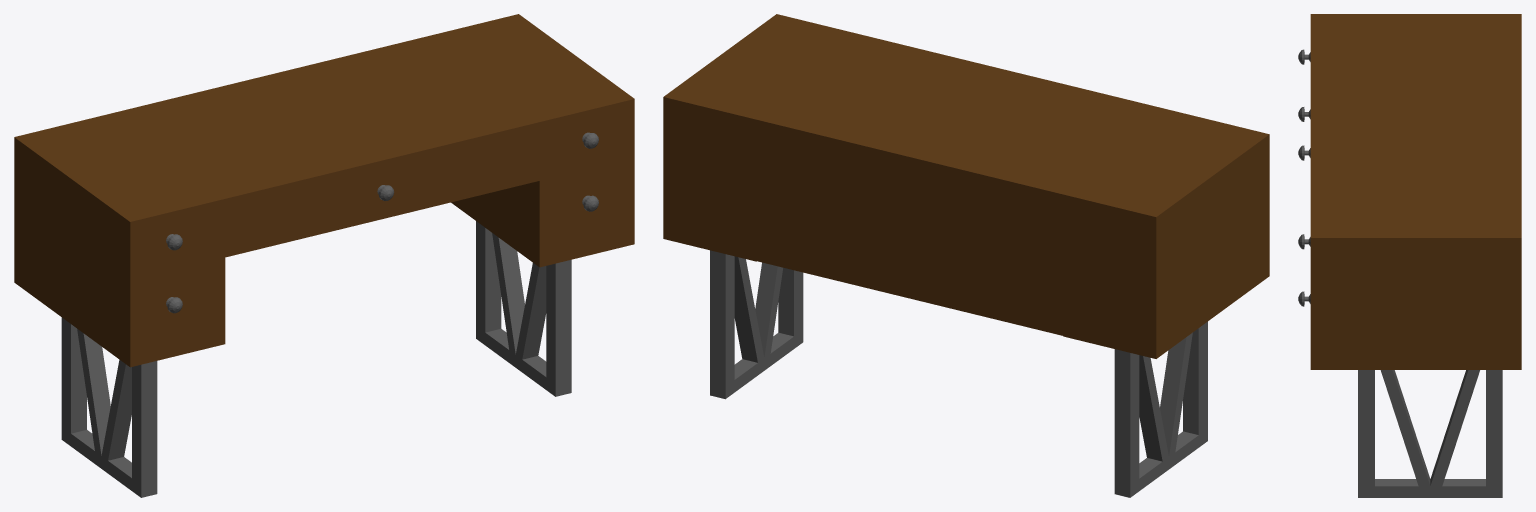
File: CPI441_Fur_Desk_O2_V2.fbx
The picture shows the model from 3 angles, left to right: view 1: azimuth 30°, elevation 25°; view 2: azimuth 150°, elevation 25°; view 3: azimuth 270°, elevation 25°; orthographic projection. The views are drawn at different scales.
Parts seen in each view (by area): view 1: Cube; view 2: Cube; view 3: Cube.
Part boxes in pixels (box(x1,y1,x2,y2)): Cube: box(14, 14, 634, 497); Cube: box(663, 14, 1269, 497); Cube: box(1298, 14, 1521, 497).
Bounding box in the file's own units: 856 × 493 × 361.
